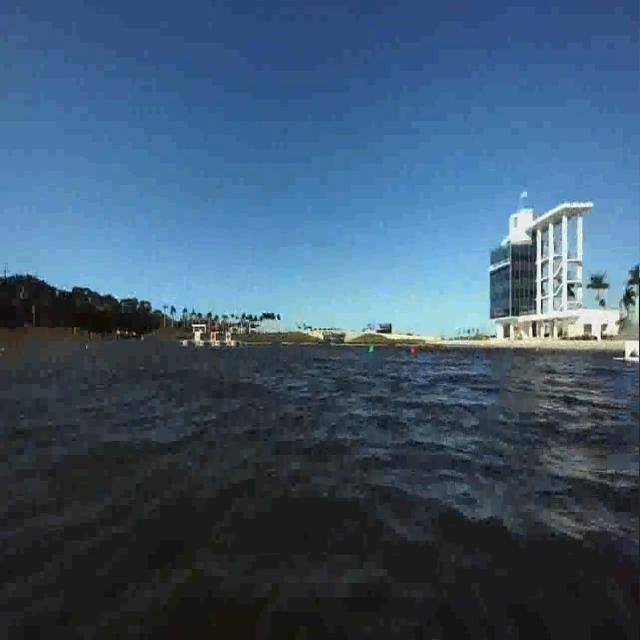green-buoy: (368, 344, 374, 356)
